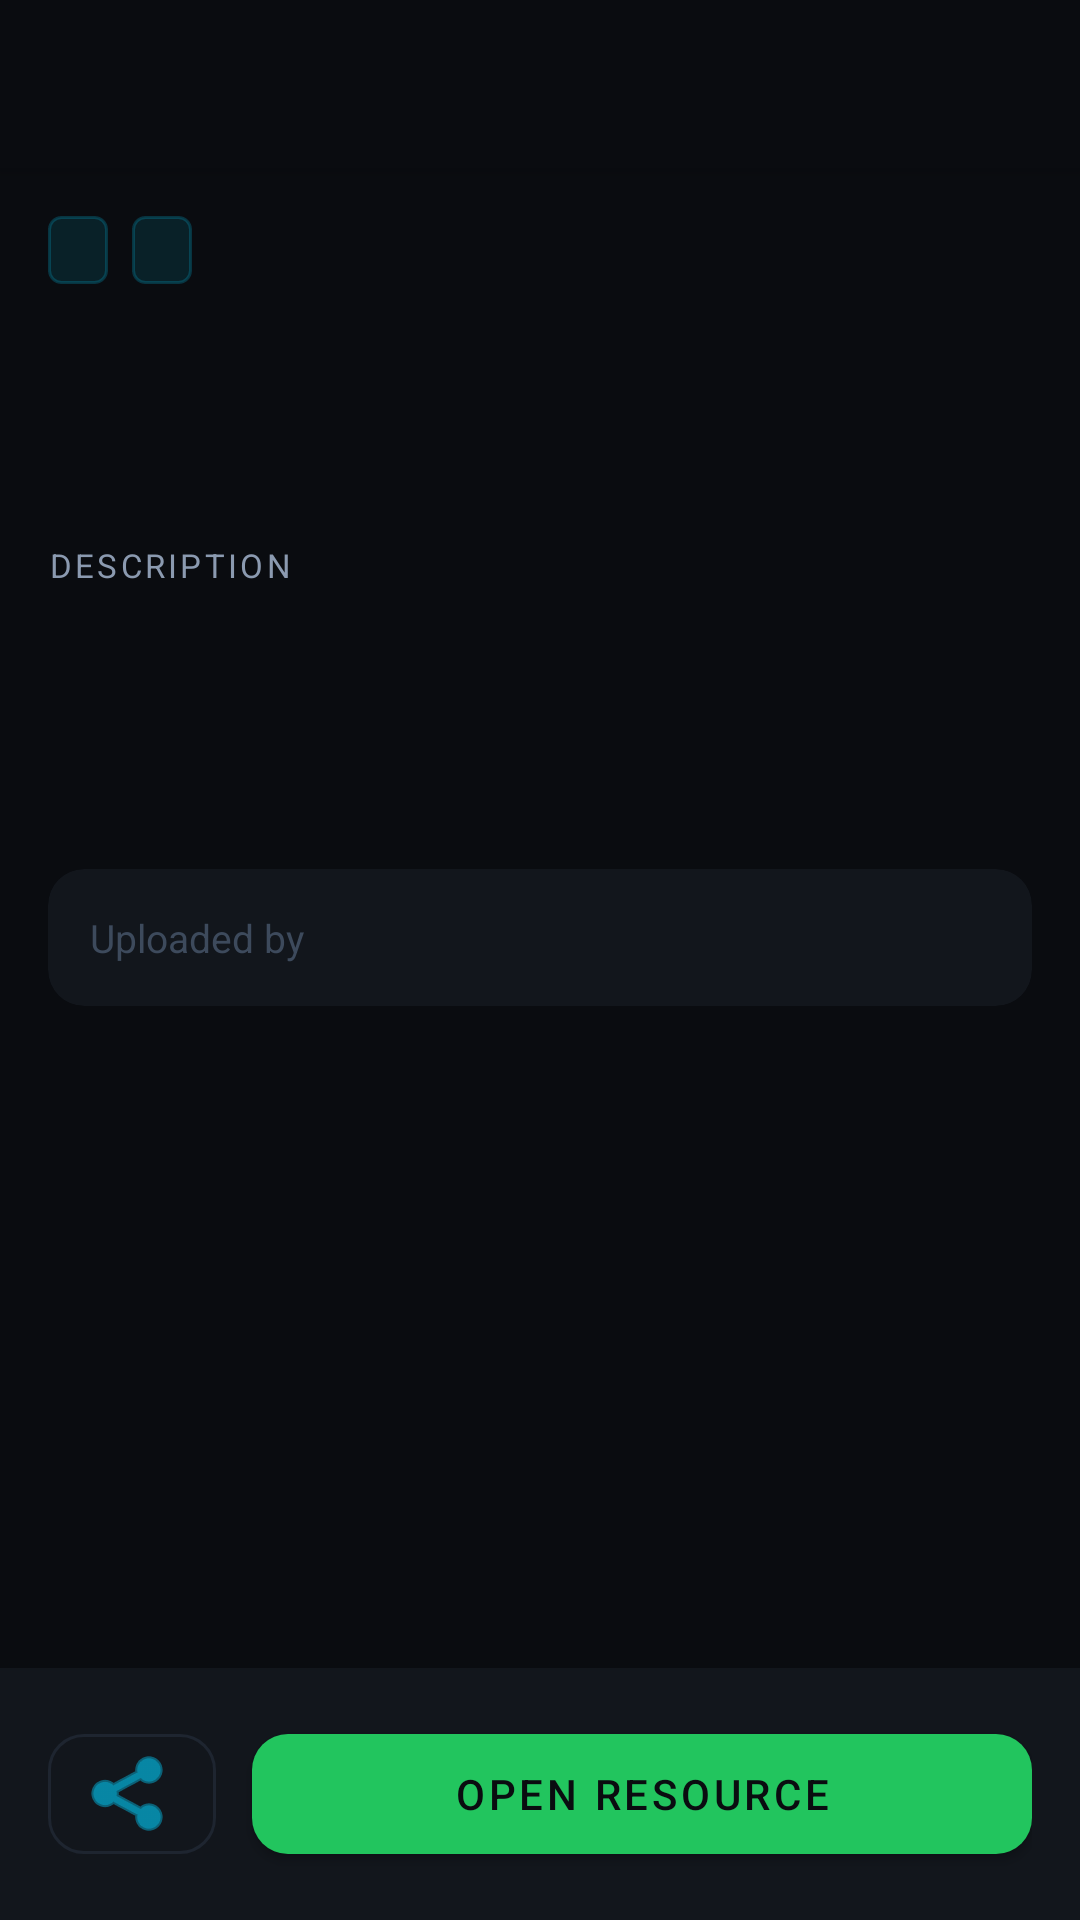

Locate icon controls on the screen. Image size 1080x1920, boxes as bbox=(x1, y1, x2, y2).
share: bbox=(91, 1756, 163, 1831)
